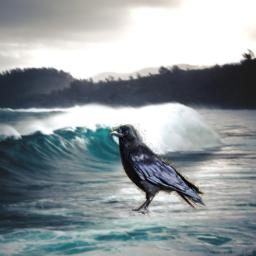Crow: (108, 121, 207, 217)
